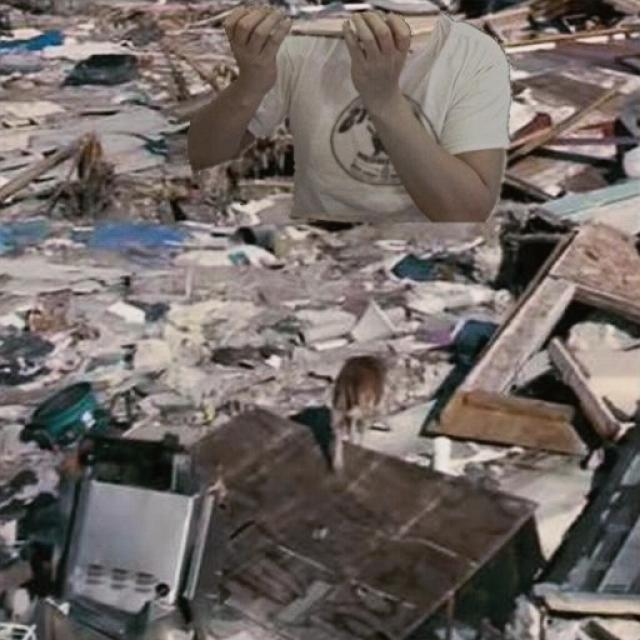Person in Rubble: (188, 7, 512, 222)
